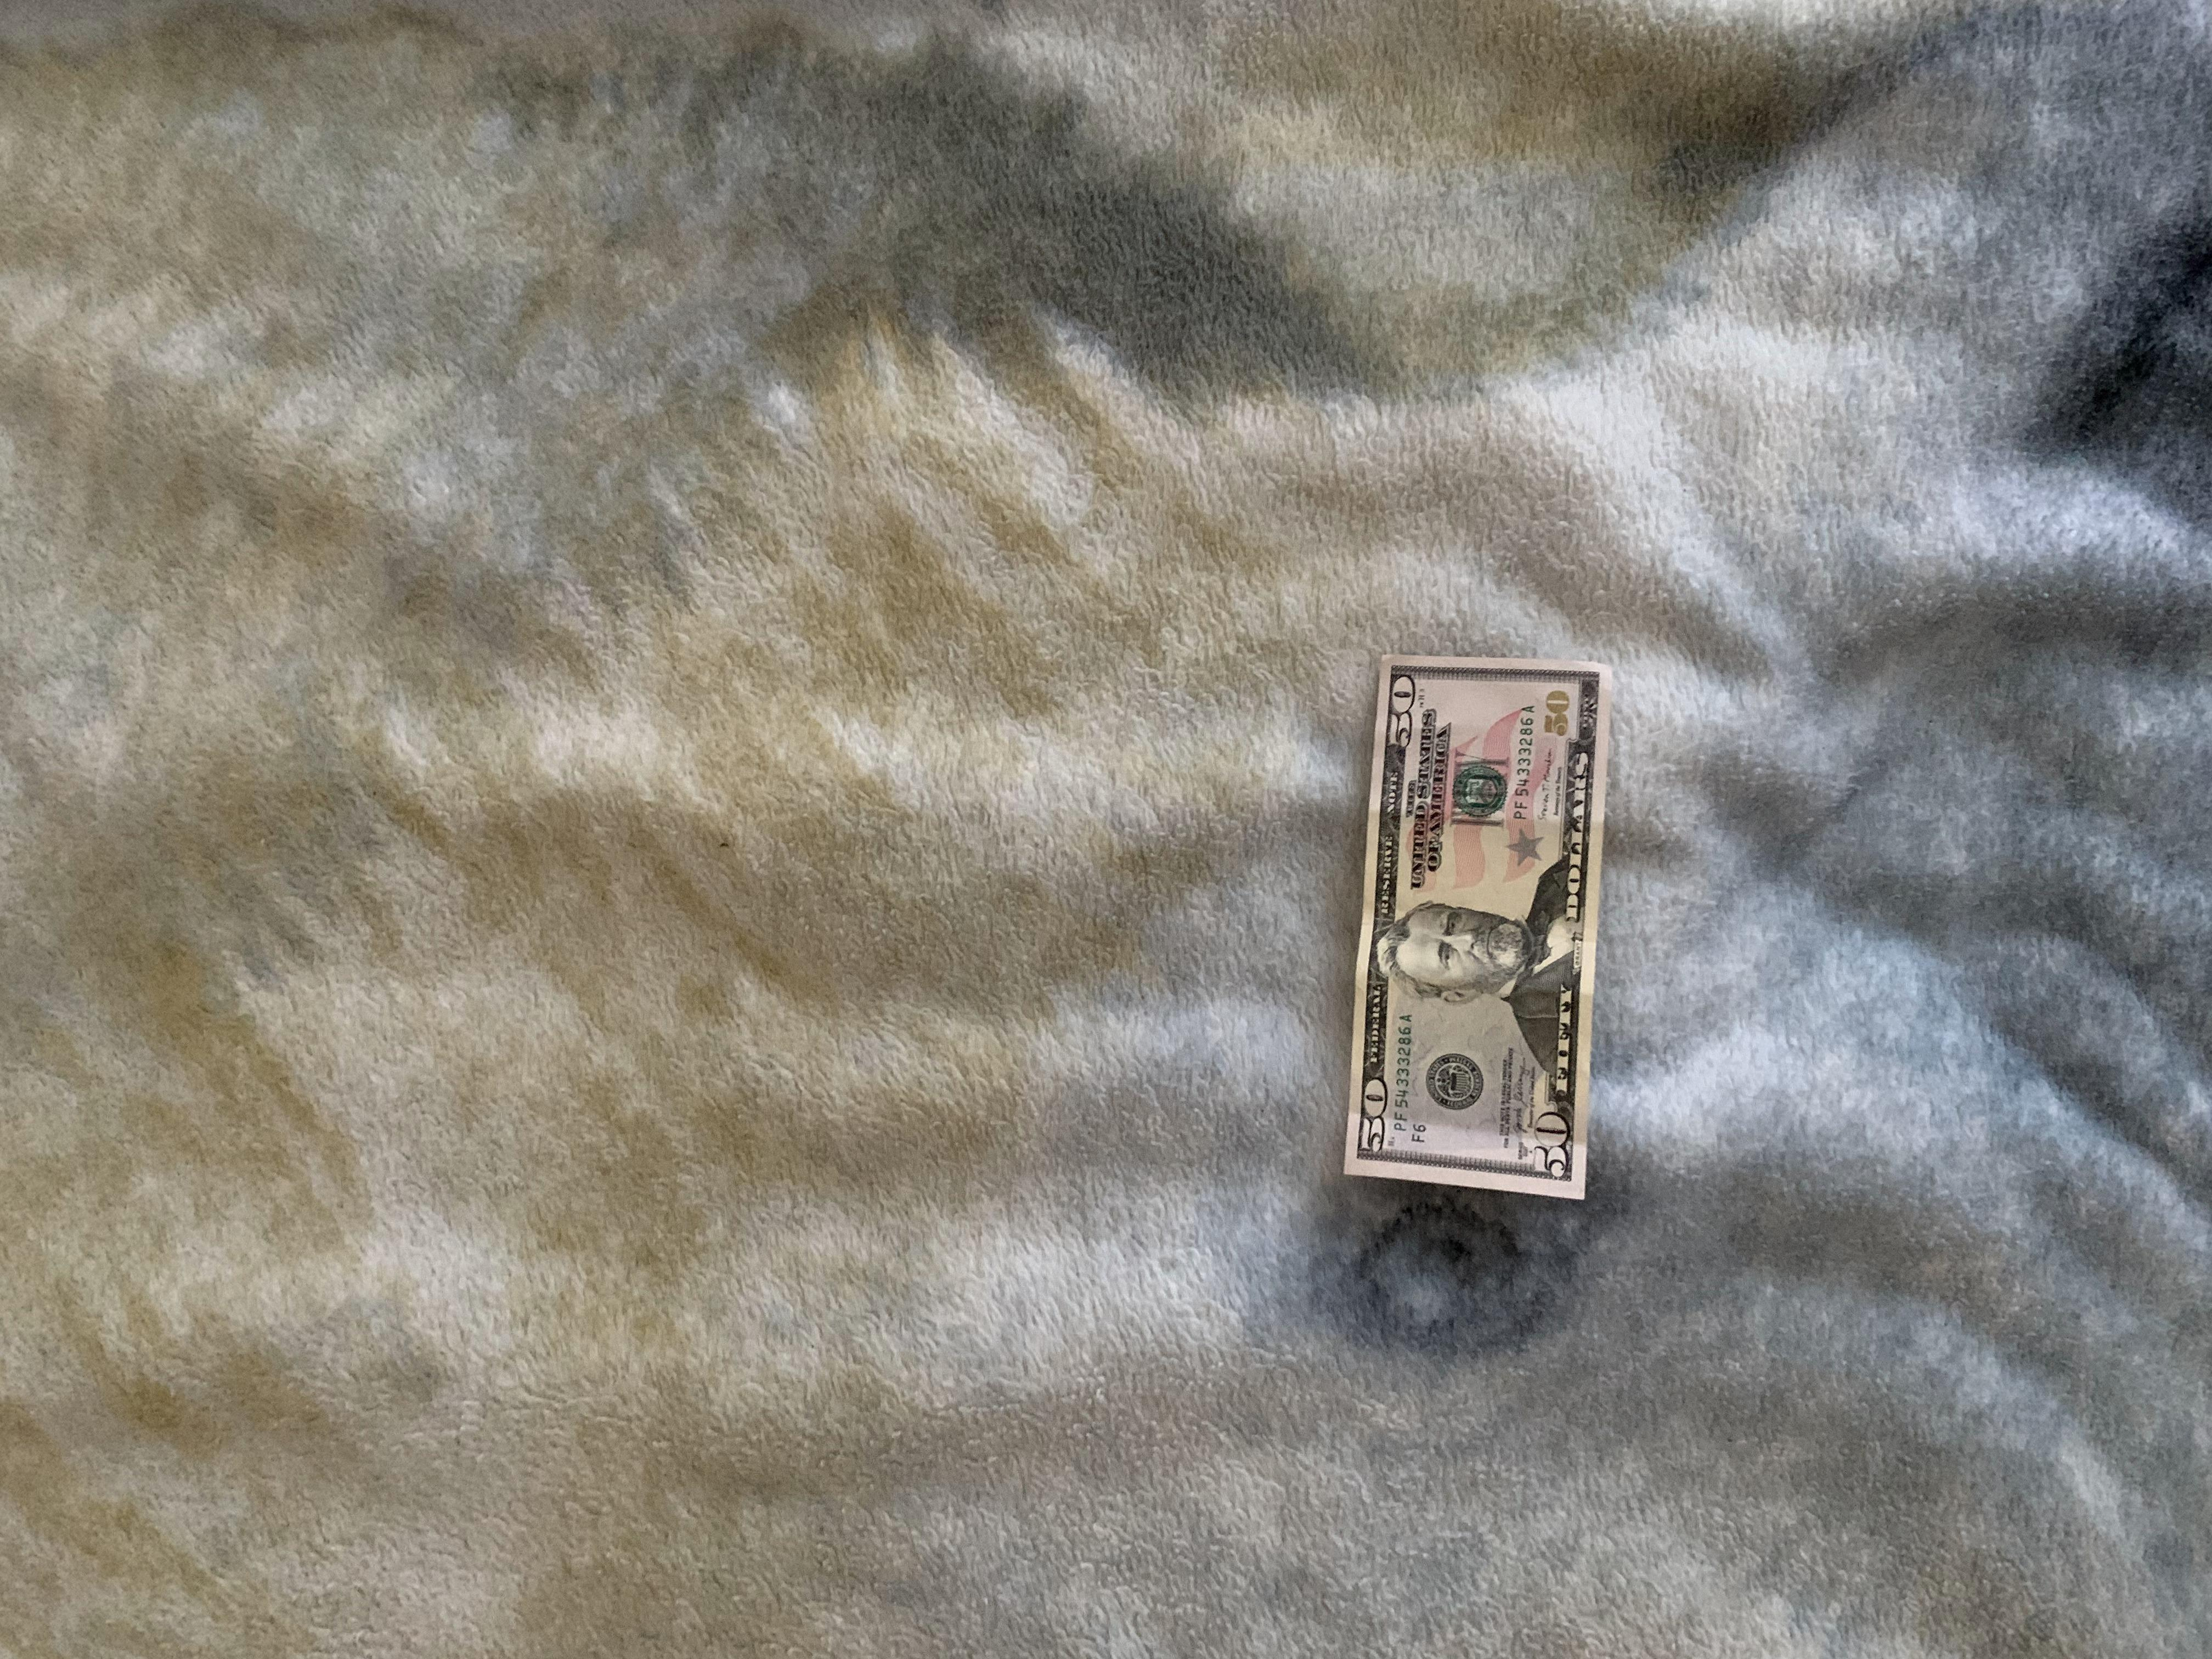FiftyBill: (1334, 652, 1616, 1201)
